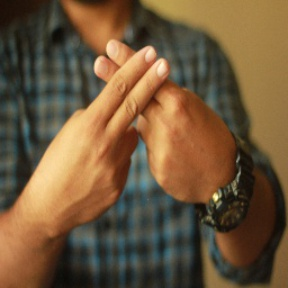F: (62, 28, 200, 159)
